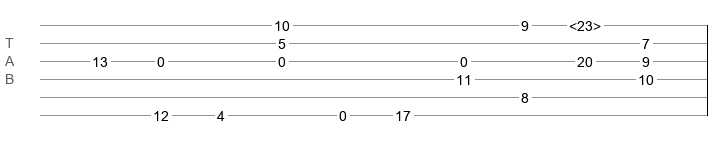0: (157, 54, 165, 64), (278, 54, 286, 64), (339, 108, 347, 118), (460, 54, 468, 64)
10: (274, 18, 290, 28), (638, 72, 654, 82)
11: (456, 72, 472, 82)
12: (153, 108, 169, 118)
13: (92, 54, 108, 64)
17: (395, 108, 411, 118)
20: (577, 54, 593, 64)
4: (217, 108, 225, 118)
5: (278, 36, 286, 46)
7: (642, 36, 650, 46)
8: (521, 90, 529, 100)
9: (521, 18, 529, 28), (642, 54, 650, 64)
harmonic: (569, 18, 601, 28)
